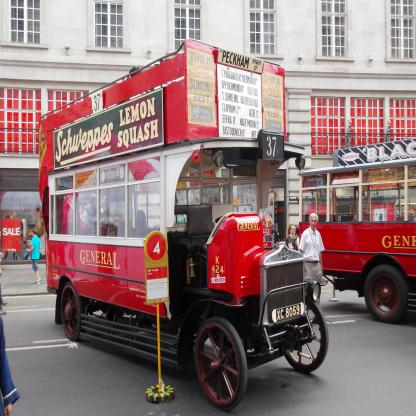Bus: (36, 36, 331, 413), (297, 138, 416, 323)
